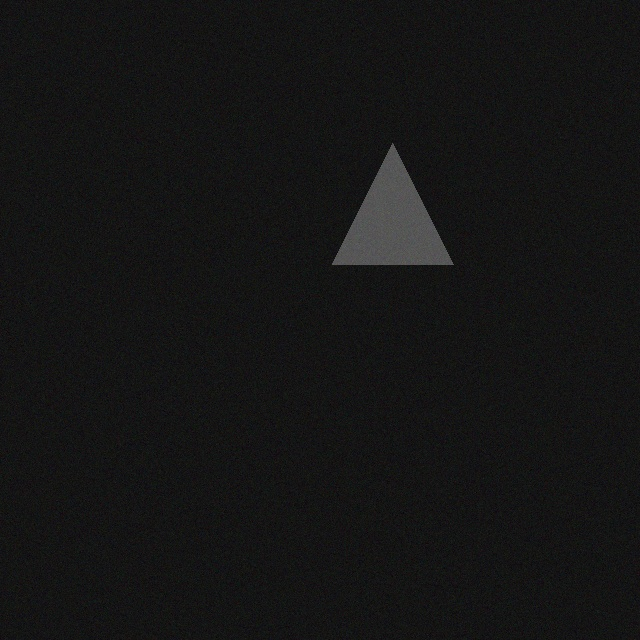triangle: (327, 143, 448, 264)
